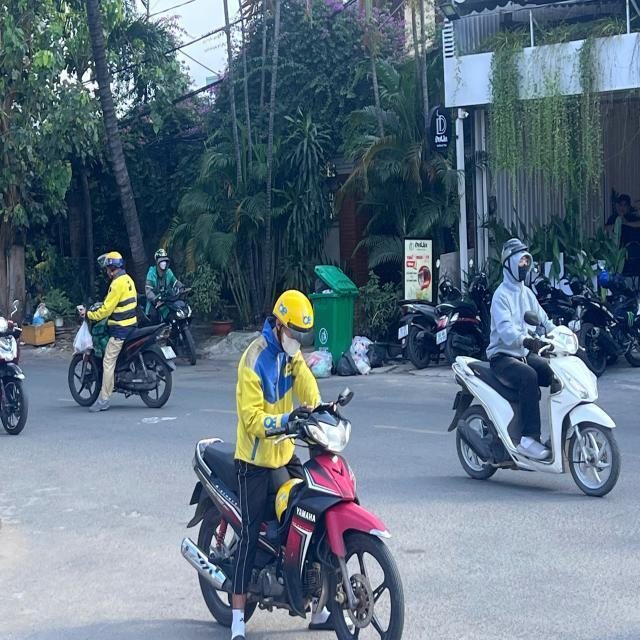motorcycle: (174, 400, 411, 640), (440, 319, 623, 500), (68, 303, 181, 416), (0, 318, 33, 444)
